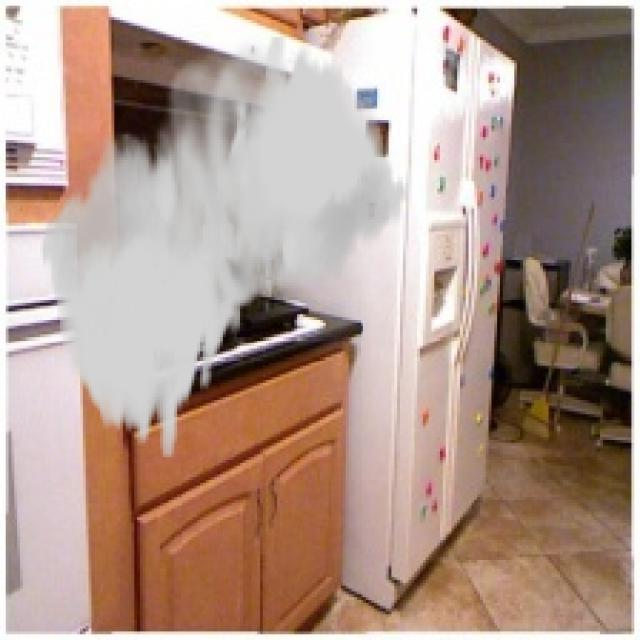smoke: (40, 34, 409, 457)
